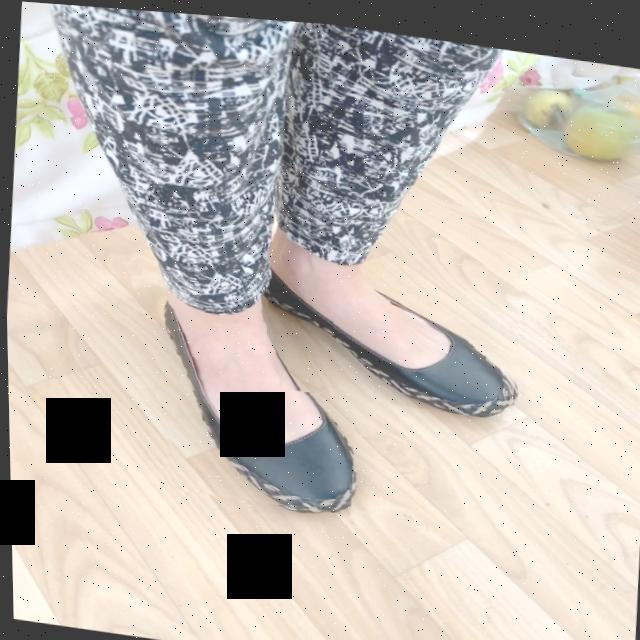shoe: (269, 230, 513, 409), (168, 297, 351, 505)
